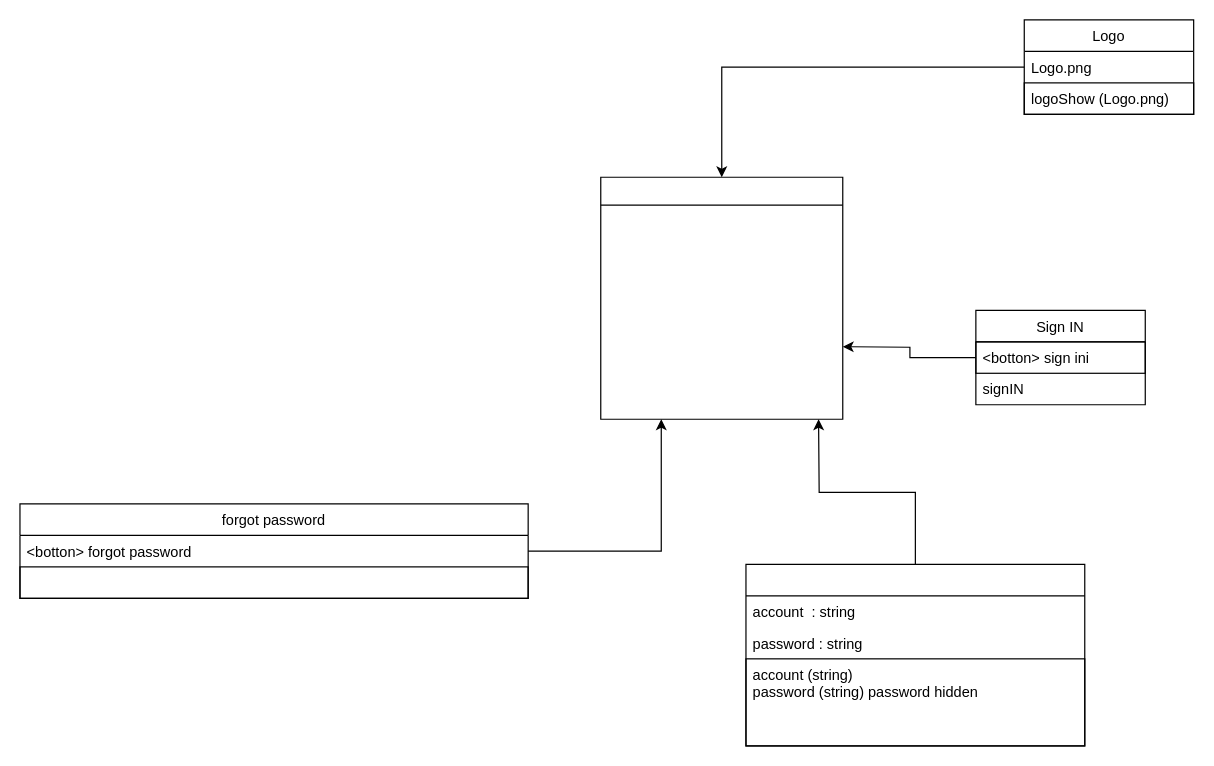
Some shapes in this 1214 by 766 pixel diagram are drawn without their labels. The box of each missing label's shape, as (x1, y1, x2, y2) in pixels:
forgotPWfunction: (19, 566, 528, 598)
login: (745, 563, 1085, 746)
login_gui: (600, 176, 843, 419)
